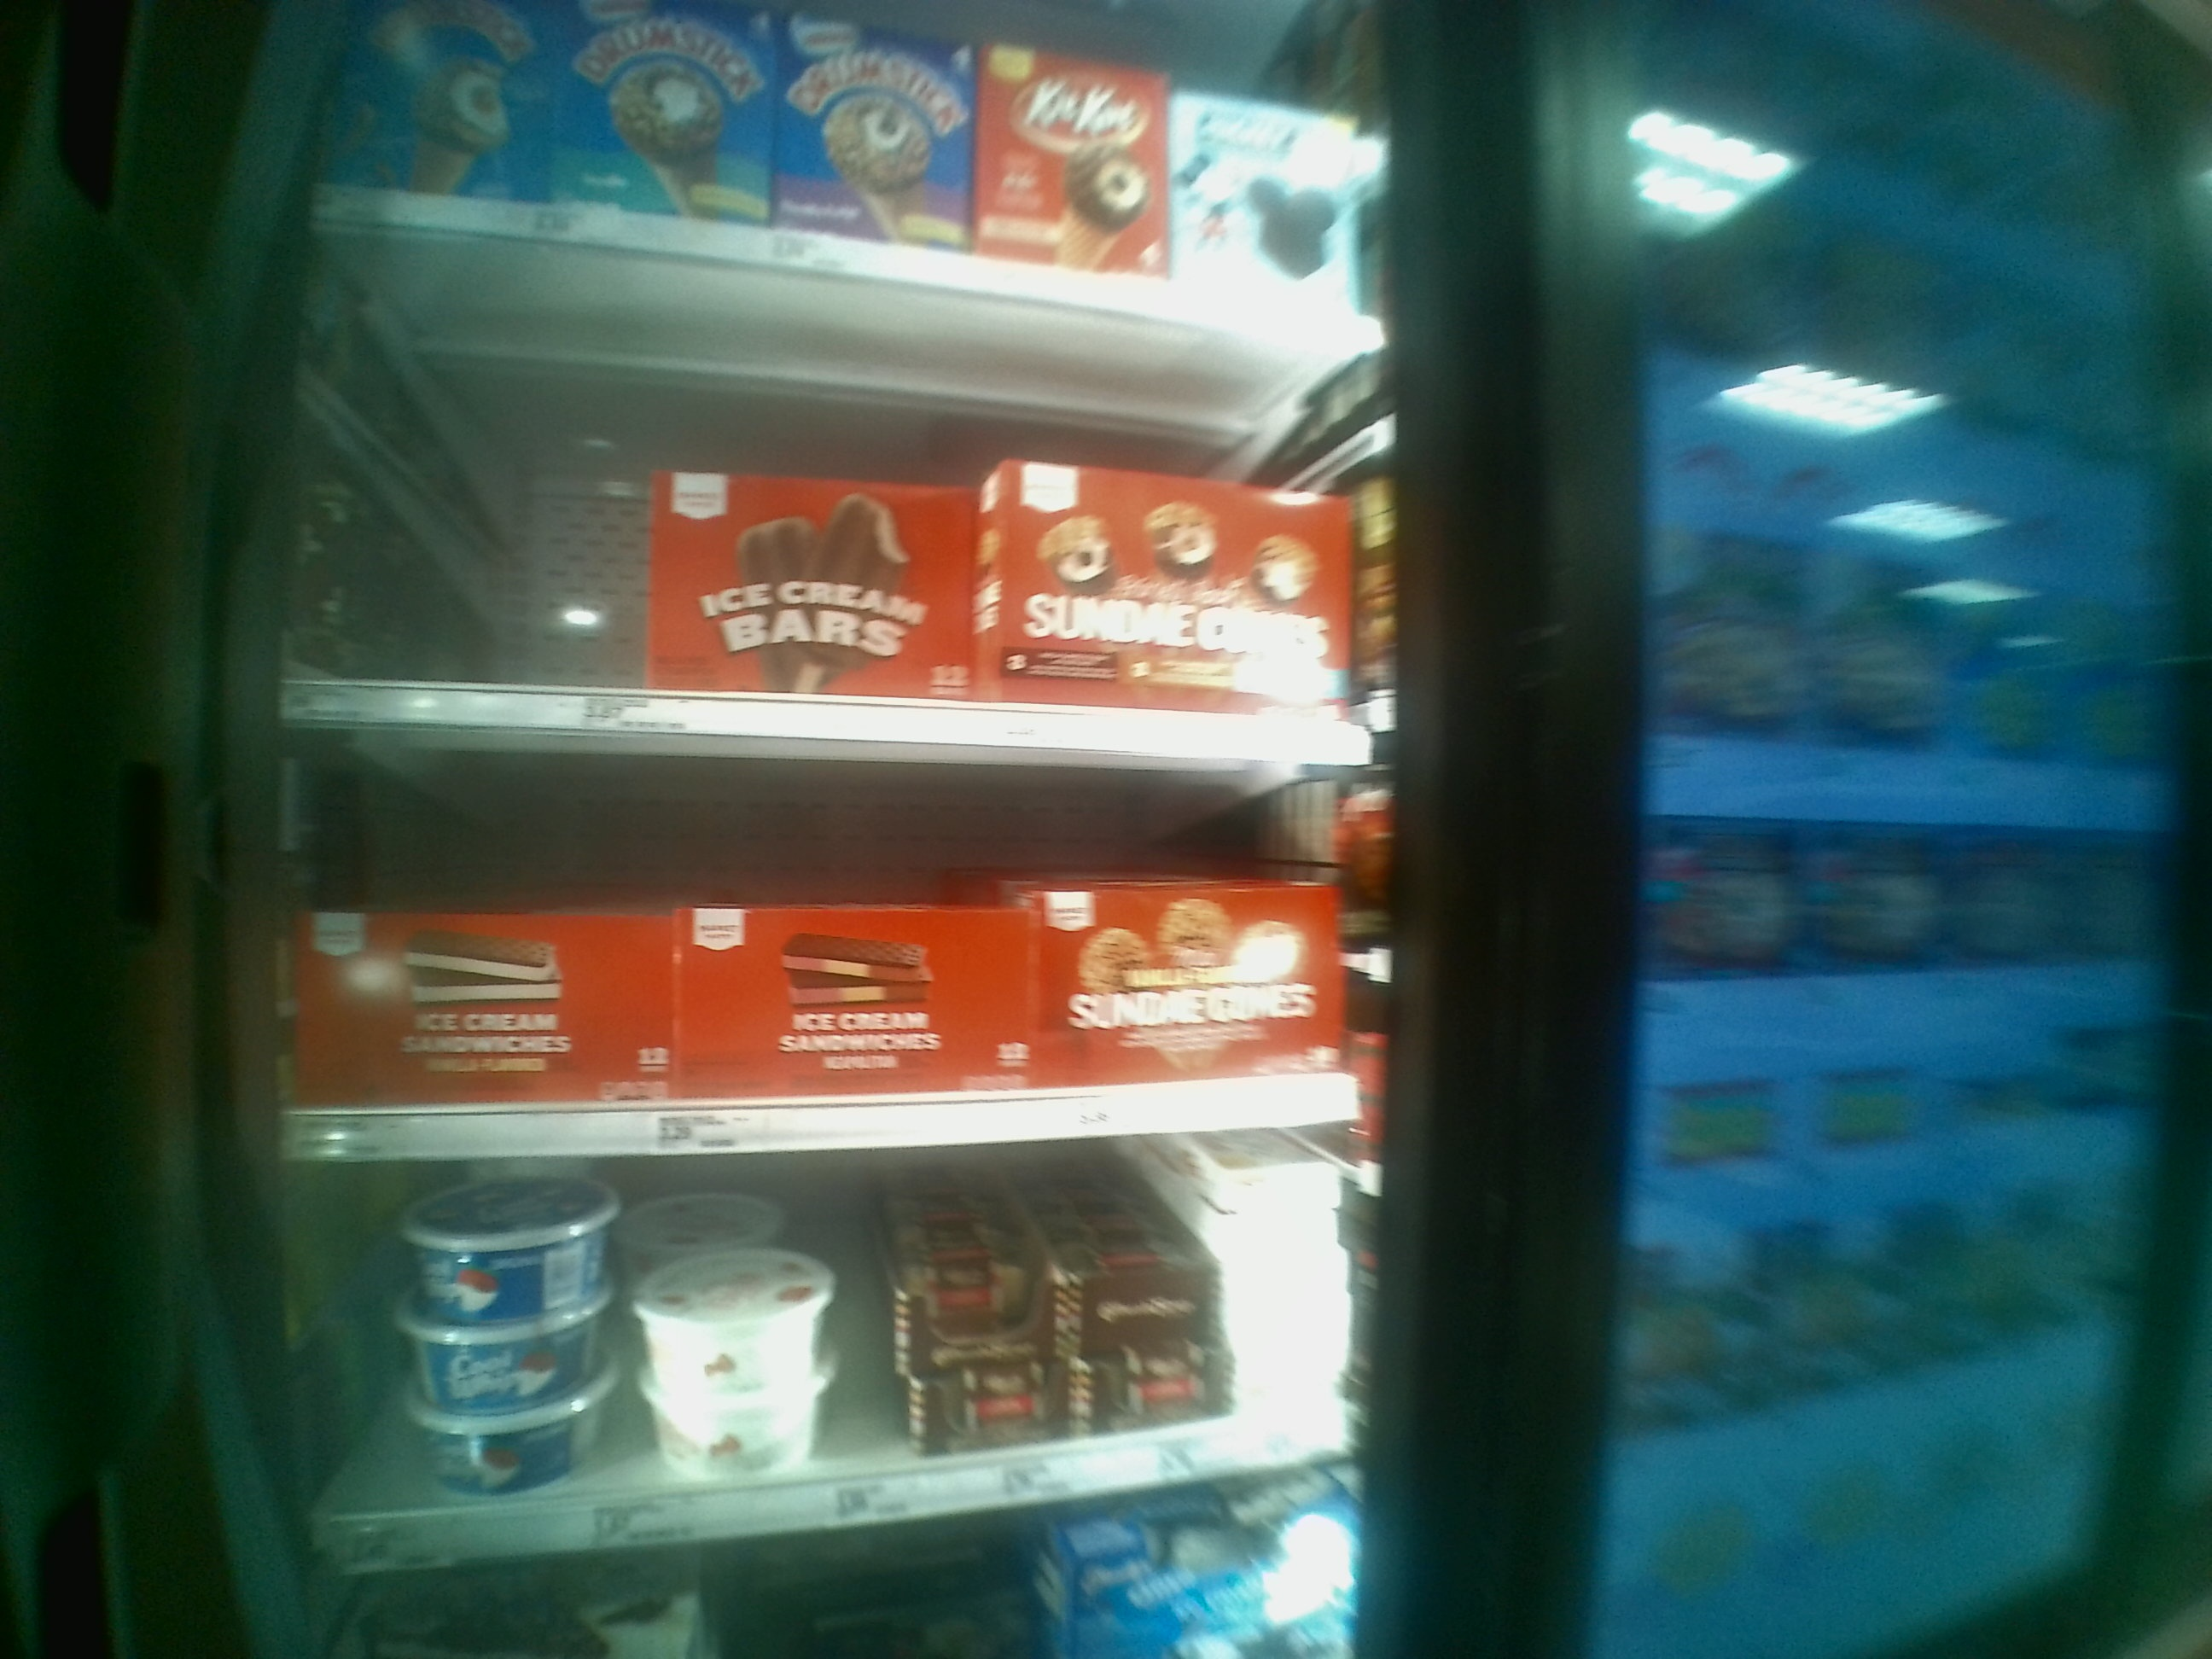shelf: (275, 221, 1378, 739), (265, 727, 1372, 1162), (261, 1161, 1395, 1560)
